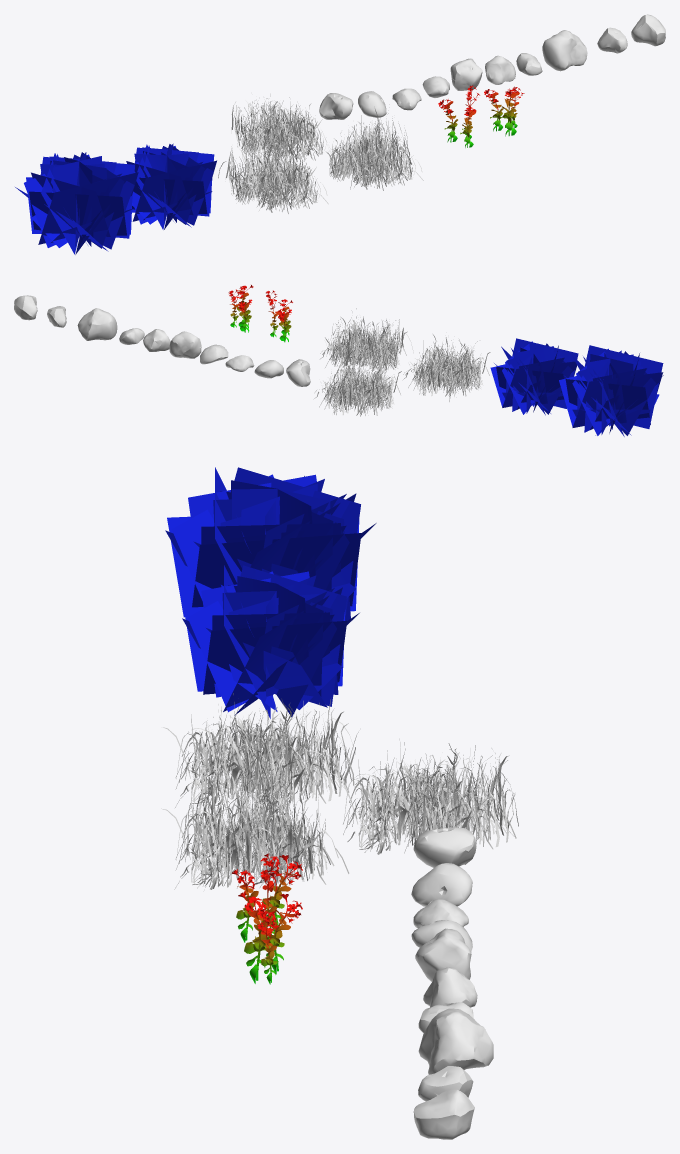
File: 17_03_assets.fbx
3 views of the same model, one above another, from view 1: azimuth 30°, elevation 25°; view 2: azimuth 150°, elevation 25°; view 3: azimuth 270°, elevation 25° (orthographic). The views are drawn at different scales.
Visible parts, largest first — view 1: ast_bush01, ast_bush02, ast_grass02, ast_grass01, ast_grass03, ast_rocklp10, ast_flower02, ast_rocklp07, ast_rocklp05, ast_flower01, ast_rocklp04, ast_rocklp06 (+5 smaller); view 2: ast_bush01, ast_bush02, ast_grass01, ast_grass02, ast_grass03, ast_rocklp10, ast_rocklp05, ast_flower02, ast_flower01, ast_rocklp04, ast_rocklp07, ast_rocklp06 (+5 smaller); view 3: ast_bush02, ast_bush01, ast_grass02, ast_grass01, ast_grass03, ast_rocklp10, ast_flower02, ast_rocklp07, ast_rocklp04, ast_flower01, ast_rocklp05, ast_rocklp03 (+3 smaller).
Part boxes in pixels (x1=…): ast_bush01: x1=15, y1=152, x2=138, y2=254; ast_bush02: x1=126, y1=143, x2=216, y2=229; ast_grass02: x1=218, y1=139, x2=328, y2=213; ast_grass01: x1=326, y1=104, x2=423, y2=190; ast_grass03: x1=231, y1=93, x2=326, y2=165; ast_rocklp10: x1=542, y1=30, x2=587, y2=71; ast_flower02: x1=484, y1=86, x2=524, y2=136; ast_rocklp07: x1=631, y1=14, x2=665, y2=46; ast_rocklp05: x1=450, y1=58, x2=482, y2=90; ast_flower01: x1=438, y1=85, x2=479, y2=147; ast_rocklp04: x1=319, y1=93, x2=353, y2=119; ast_rocklp06: x1=485, y1=55, x2=515, y2=84; ast_bush01: x1=559, y1=345, x2=663, y2=436; ast_bush02: x1=490, y1=338, x2=578, y2=415; ast_grass01: x1=320, y1=308, x2=413, y2=372; ast_grass02: x1=403, y1=334, x2=490, y2=401; ast_grass03: x1=314, y1=353, x2=401, y2=416; ast_rocklp10: x1=77, y1=308, x2=117, y2=340; ast_rocklp05: x1=169, y1=331, x2=201, y2=358; ast_flower02: x1=228, y1=285, x2=253, y2=332; ast_flower01: x1=266, y1=290, x2=292, y2=342; ast_rocklp04: x1=286, y1=359, x2=310, y2=386; ast_rocklp07: x1=14, y1=295, x2=37, y2=320; ast_rocklp06: x1=143, y1=329, x2=170, y2=351; ast_bush02: x1=182, y1=565, x2=359, y2=718; ast_bush01: x1=165, y1=467, x2=376, y2=620; ast_grass02: x1=163, y1=693, x2=358, y2=808; ast_grass01: x1=161, y1=762, x2=349, y2=889; ast_grass03: x1=328, y1=738, x2=518, y2=854; ast_rocklp10: x1=418, y1=1008, x2=493, y2=1074; ast_flower02: x1=238, y1=891, x2=302, y2=984; ast_rocklp07: x1=413, y1=1089, x2=474, y2=1139; ast_rocklp04: x1=413, y1=827, x2=476, y2=867; ast_flower01: x1=232, y1=853, x2=302, y2=942; ast_rocklp05: x1=415, y1=928, x2=471, y2=981; ast_rocklp03: x1=411, y1=863, x2=472, y2=906.
Size of the model in its own units: 351 by 38.66 by 91.2.
